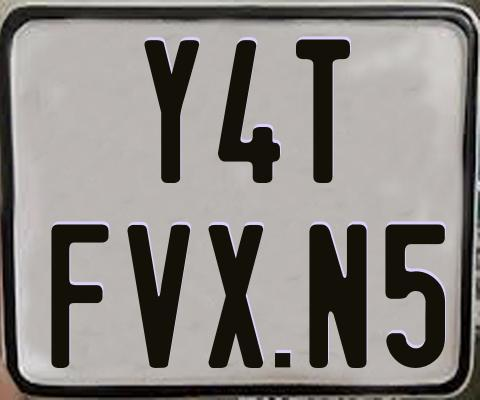4: (216, 40, 280, 185)
5: (382, 222, 446, 371)
F: (50, 224, 114, 372)
N: (309, 223, 369, 370)
T: (296, 39, 351, 183)
V: (127, 224, 195, 369)
X: (205, 222, 262, 367)
Y: (142, 38, 203, 184)
